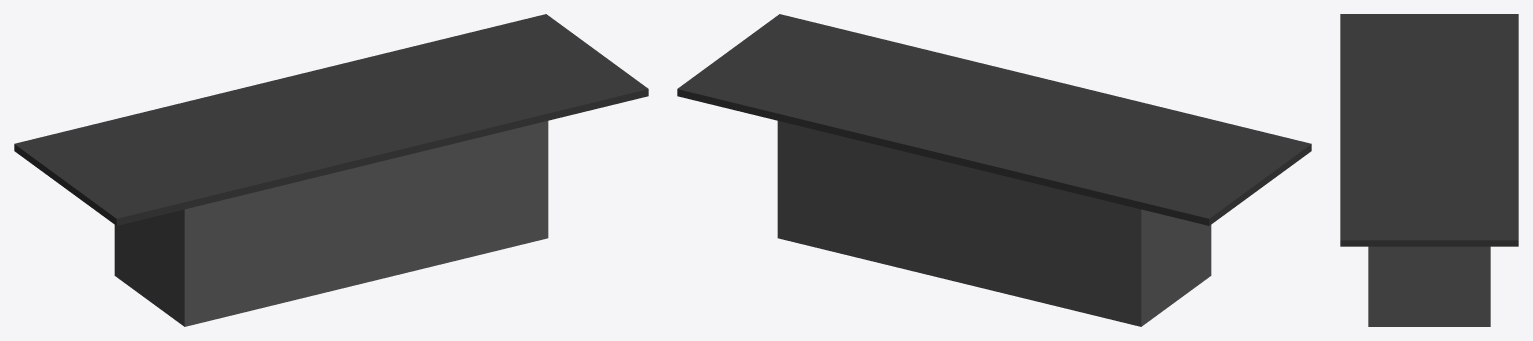
File: ScienceTable_01.fbx
3 renders of one model, left to right at view 1: azimuth 30°, elevation 25°; view 2: azimuth 150°, elevation 25°; view 3: azimuth 270°, elevation 25°, orthographic. The views are drawn at different scales.
Visible parts, largest first — view 1: Sciences_Table; view 2: Sciences_Table; view 3: Sciences_Table.
Boxes of the visible parts, <box> form: Sciences_Table: <box>14,14,648,326</box>; Sciences_Table: <box>677,14,1311,326</box>; Sciences_Table: <box>1340,14,1518,326</box>.
Size of the model in its own units: 1183 by 298 by 395.
